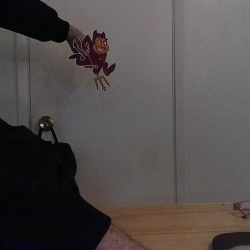sparky: (67, 28, 116, 92)
